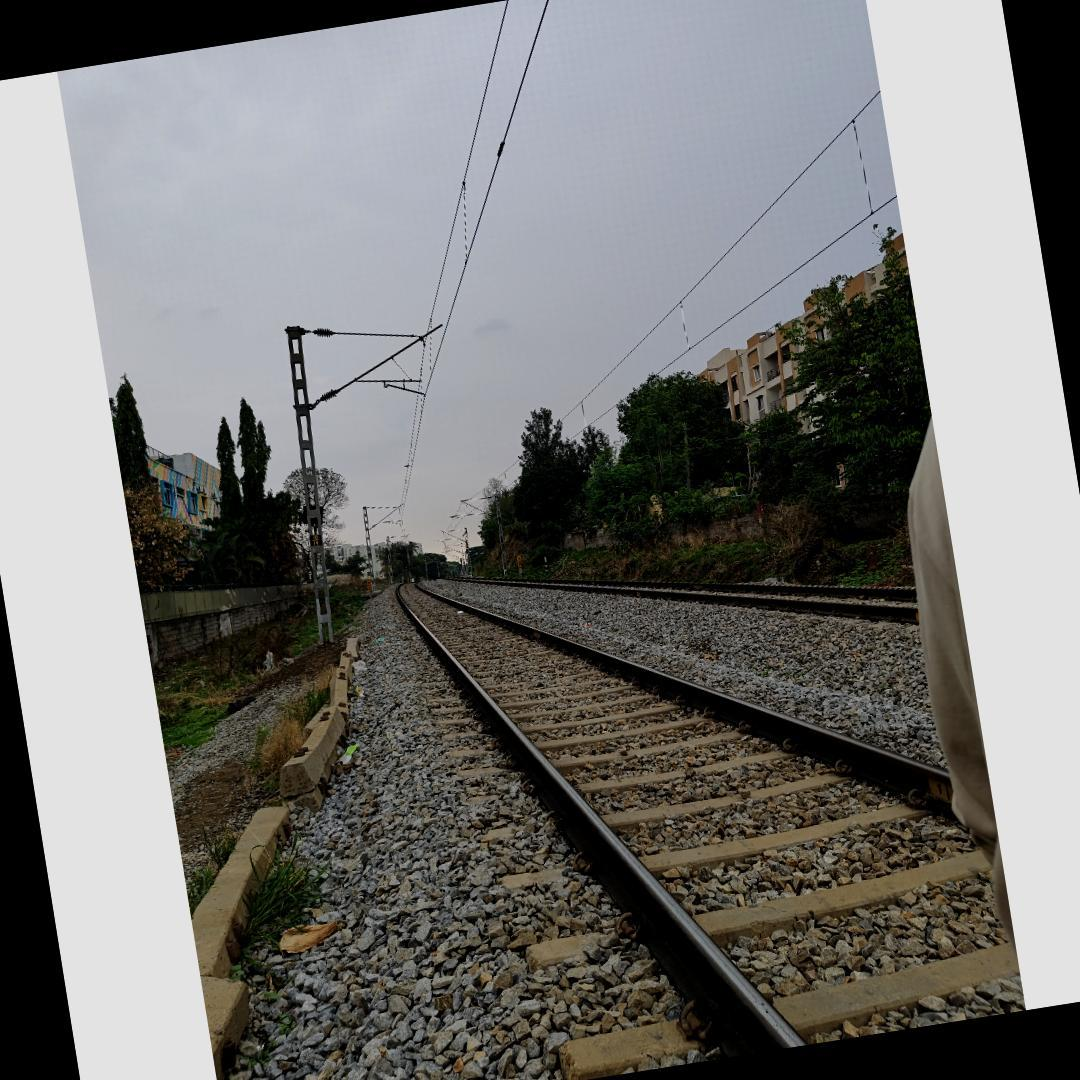track: (372, 570, 1024, 1080)
